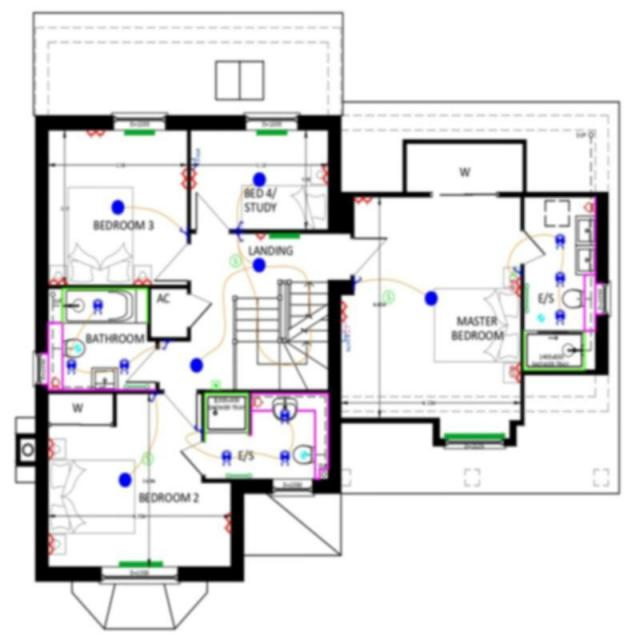Cat 6 Data Socket: (190, 147, 200, 168), (340, 331, 350, 352)
Ceiling Mounted Continuous Extract FanWith Boost Mode Activated By Light Switch: (300, 451, 307, 458), (74, 343, 80, 351), (536, 314, 544, 320)
Co-Ax TV Socket: (340, 321, 350, 334)
Double Socket: (180, 167, 187, 188), (341, 300, 348, 321), (223, 512, 230, 533), (86, 130, 104, 138), (49, 276, 66, 284), (354, 196, 371, 204), (190, 169, 197, 188), (320, 164, 327, 182), (48, 438, 54, 458), (48, 534, 54, 554), (133, 277, 150, 284)
Full Height Tiling: (61, 288, 147, 322), (522, 330, 585, 370), (203, 392, 249, 441)
Light Switch: (235, 232, 243, 242), (161, 340, 169, 349), (234, 220, 243, 228), (354, 275, 361, 285), (178, 226, 186, 234), (512, 266, 519, 274), (193, 425, 201, 432)
Low Energy Downlighter: (554, 232, 565, 250), (554, 270, 565, 288), (279, 408, 290, 424), (279, 450, 290, 466), (118, 358, 129, 373), (92, 298, 102, 314), (554, 309, 564, 325), (221, 450, 231, 466), (66, 358, 76, 373)
Low Energy Pendant Light: (110, 200, 124, 214), (252, 172, 266, 186), (118, 472, 132, 486), (189, 357, 202, 372), (424, 290, 437, 304), (252, 258, 265, 271)
Mains Wired Smoke Detector: (382, 290, 394, 303), (142, 452, 152, 464)
Programmable Room Thermostat: (211, 380, 220, 389)
Radiator: (443, 433, 504, 438), (119, 561, 162, 566), (268, 232, 299, 238), (124, 130, 154, 134), (256, 130, 286, 134)
Shaver Socket: (50, 375, 60, 389), (250, 397, 264, 406), (582, 202, 594, 212)
Single Socket: (255, 233, 265, 241)
USB Double Socket: (508, 362, 520, 382), (509, 277, 520, 296)
